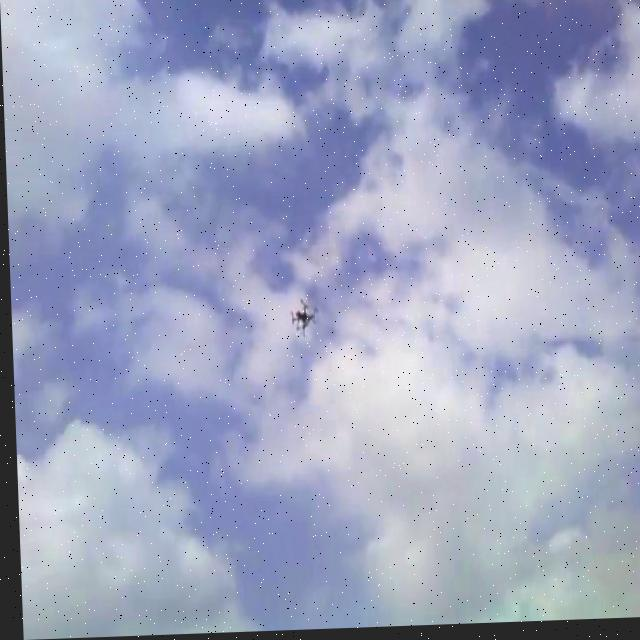drone: (285, 295, 316, 338)
